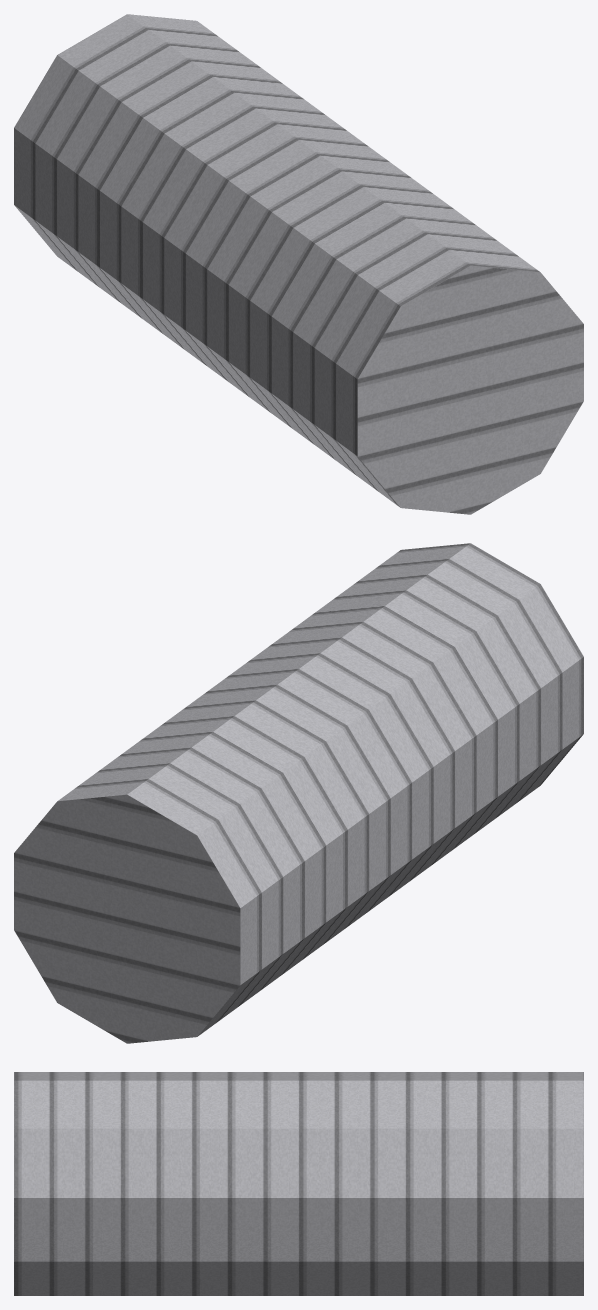
Rendered from vehicle_snowmobile.glb.
The picture shows the model from 3 angles, top to bottom: view 1: azimuth 30°, elevation 25°; view 2: azimuth 150°, elevation 25°; view 3: azimuth 270°, elevation 25°; orthographic projection. The views are drawn at different scales.
Parts seen in each view (by area): view 1: vehicle_snowmobile-col; view 2: vehicle_snowmobile-col; view 3: vehicle_snowmobile-col.
Part boxes in pixels (x1,y1,x2,y2): vehicle_snowmobile-col: (14,14,583,514); vehicle_snowmobile-col: (14,543,583,1043); vehicle_snowmobile-col: (14,1072,583,1295).
Bounding box in the file's own units: 0.7608 × 0.8 × 2.
1 material, 1 textured.
